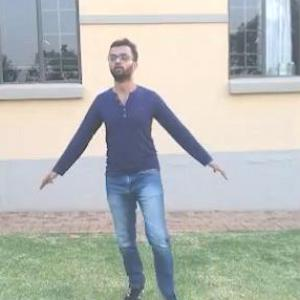land: (56, 31, 242, 277)
